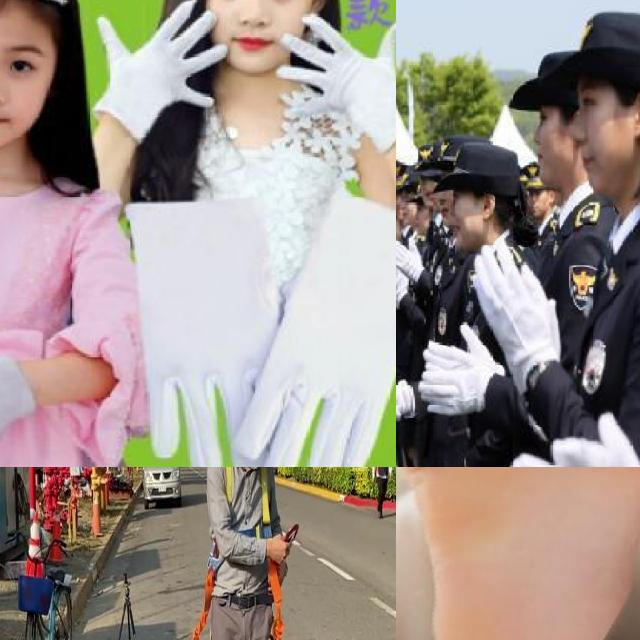Barefoots: (396, 467, 640, 640), (531, 467, 640, 640)
Harness: (194, 567, 216, 640), (269, 560, 284, 640)
No_Ear-Protection: (480, 191, 498, 220), (629, 87, 640, 132)
No_Glasses: (0, 28, 53, 90)
face_nomask: (198, 0, 329, 66), (0, 11, 58, 152), (570, 95, 628, 196), (524, 102, 574, 192), (446, 188, 490, 242)
hand_glove: (90, 0, 232, 124), (276, 8, 396, 128), (472, 241, 558, 364), (509, 414, 640, 467), (420, 347, 500, 423), (417, 321, 501, 393), (396, 236, 423, 280), (396, 253, 408, 299)
head_nohelmet: (572, 4, 640, 98), (517, 42, 584, 112), (446, 146, 524, 202)
person: (116, 0, 396, 467), (476, 22, 640, 467), (0, 0, 135, 467), (396, 147, 521, 461)
